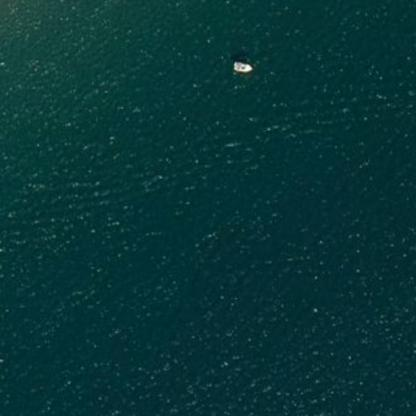ship: (228, 54, 255, 78)
